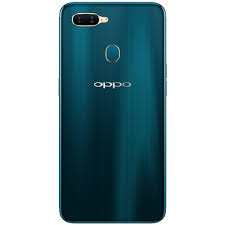oppo: (59, 1, 166, 225)
